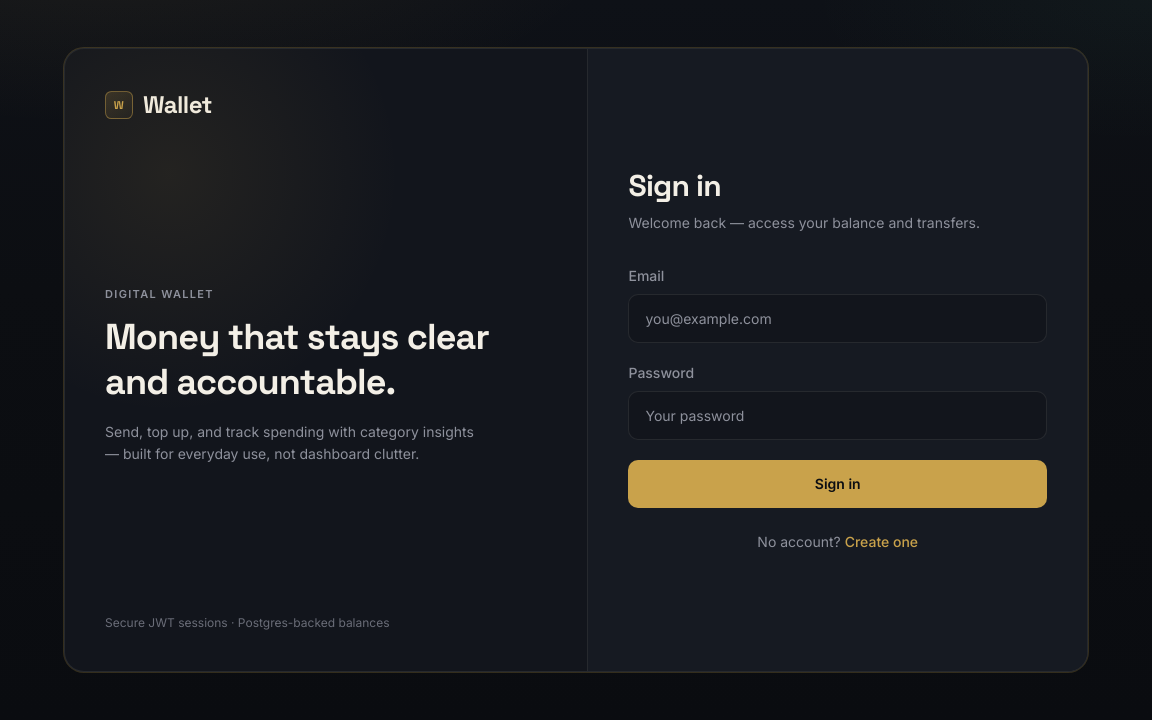
Test: Login form validation › rejects a malformed email address
Type "not-an-email" into the field labelled "Email" at (838, 319), box [628,294,1047,343]
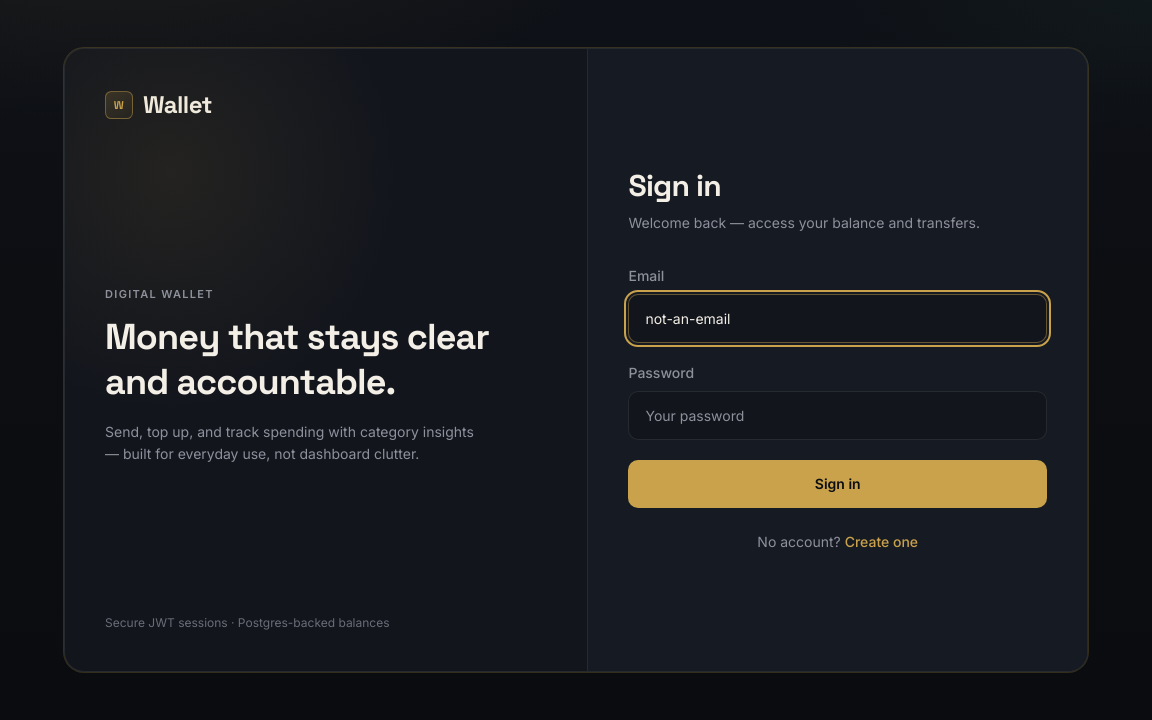
Type "secret123" into the password field labelled "Password" at (838, 416), box [628,391,1047,440]
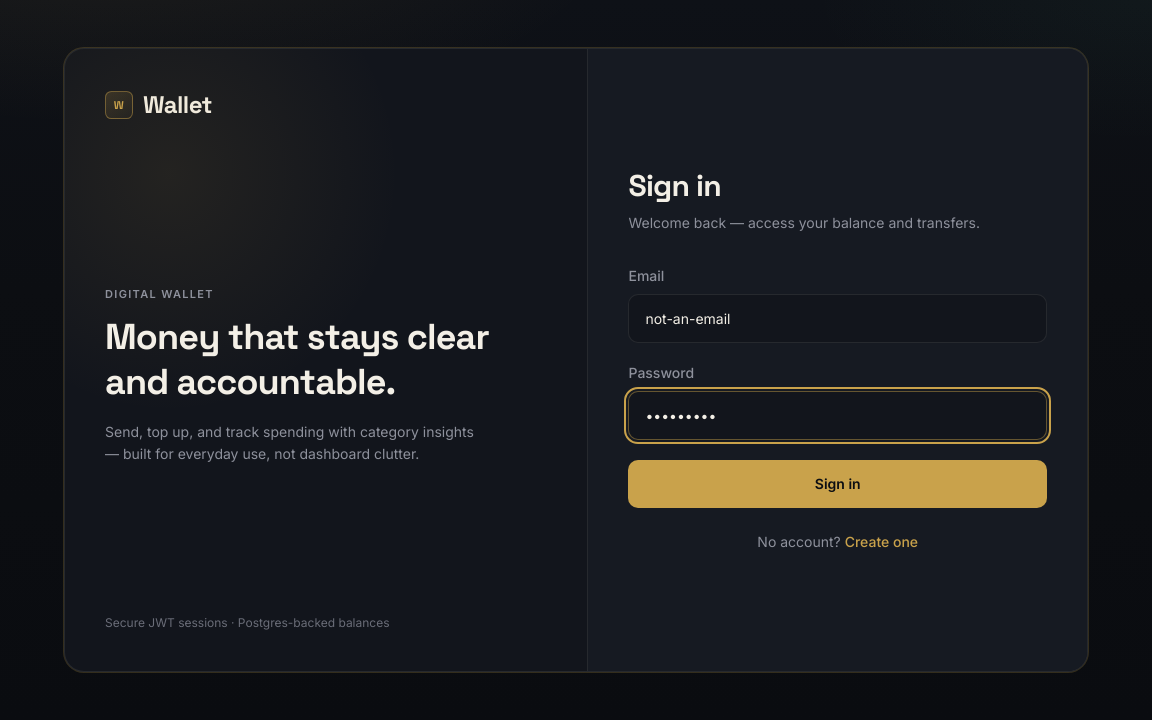
Click the button "Sign in" at (838, 484), box [628,460,1047,508]
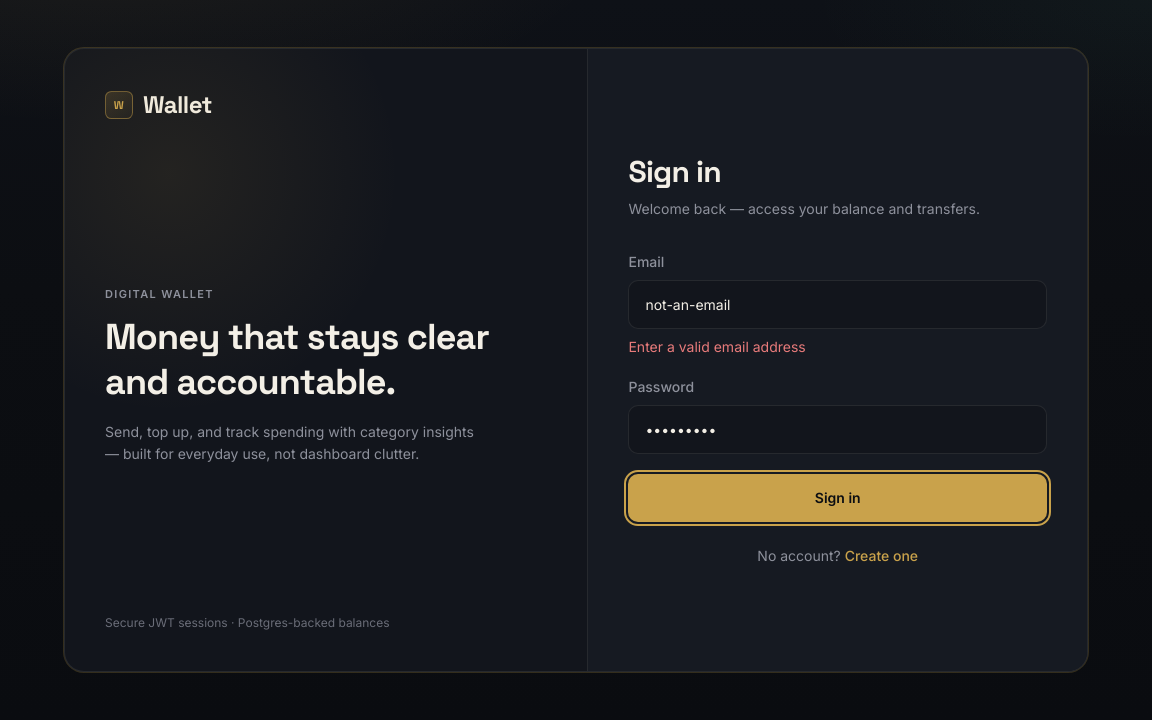
Now the text "Enter a valid email address" is shown, box [628,338,806,355]
